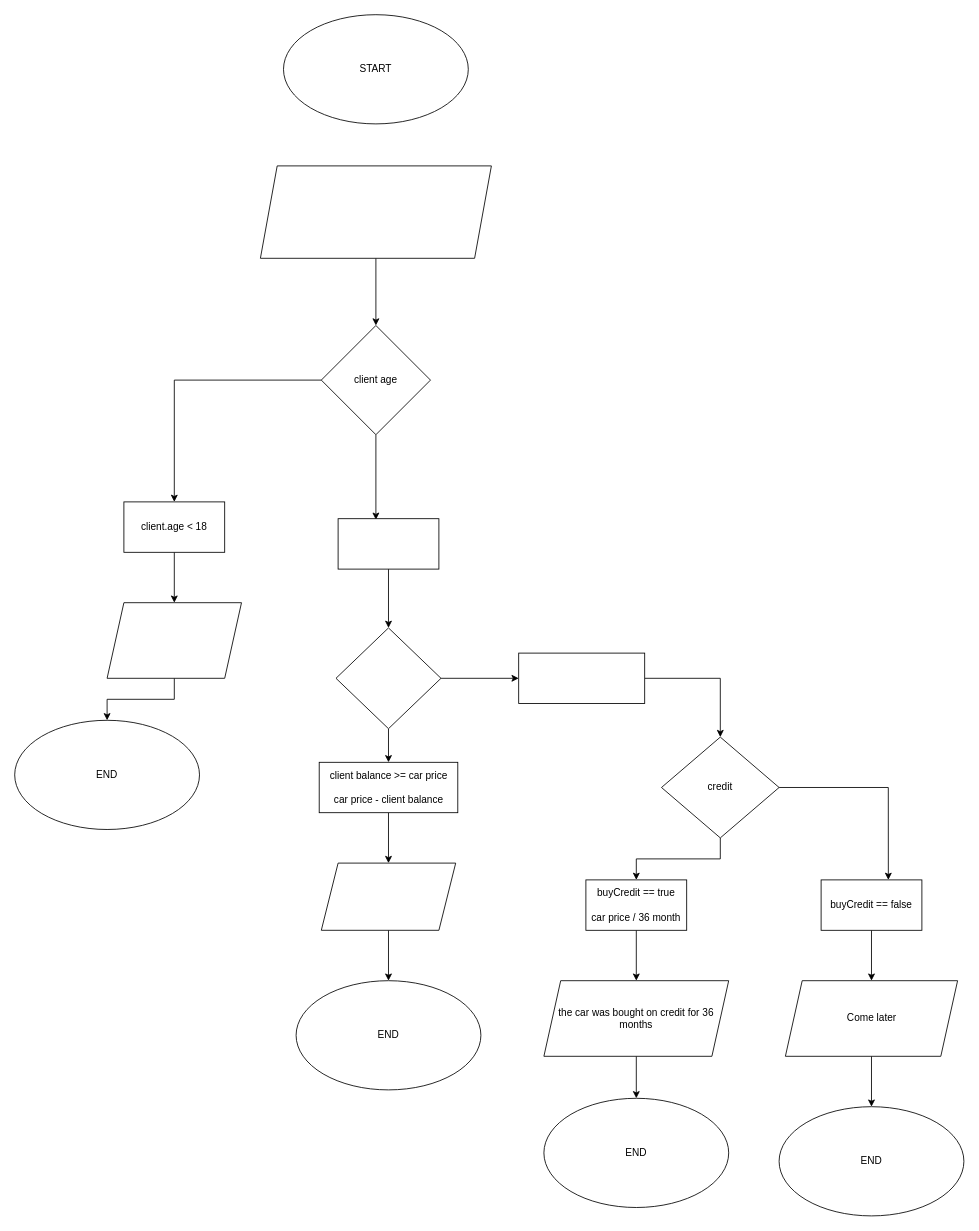
Image size: 979x1231. Some labels were removed from this diagram. The box of each missing label's shape, as (x1, y1, x2, y2) in pixels:
client balance: (335, 627, 441, 729)
client balance < car price: (518, 652, 645, 704)
client.age >= 18: (337, 518, 439, 569)
congratulations on your purchase, your balance: (320, 862, 456, 930)
name, year, balance, credit car price, value,: (260, 165, 491, 258)
Sorry, come after .. year: (106, 602, 242, 678)
